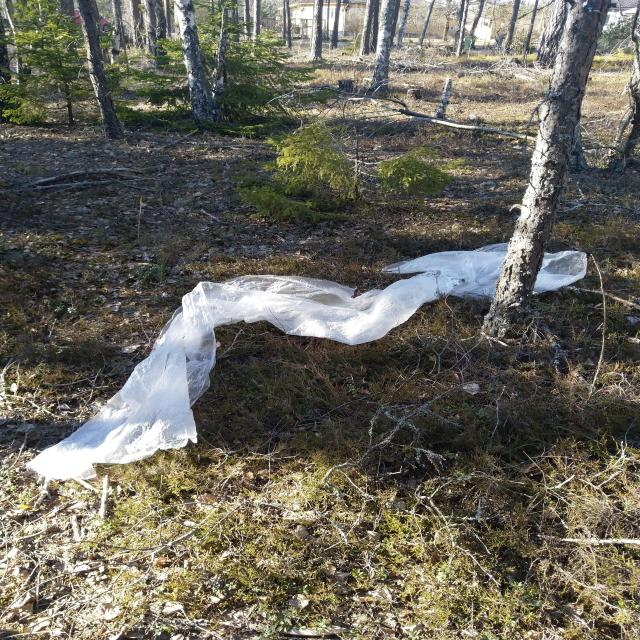litter: (13, 228, 616, 497)
